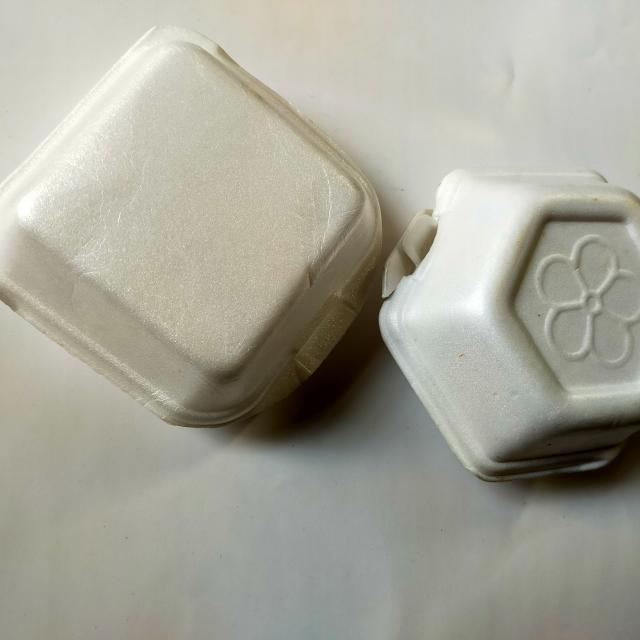styrofoam: (1, 22, 383, 428), (377, 165, 639, 483)
